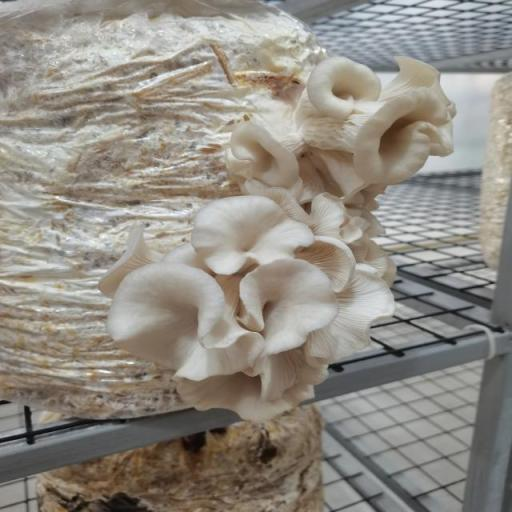White Oyster Mushroom: (92, 195, 415, 421), (209, 52, 458, 200)
